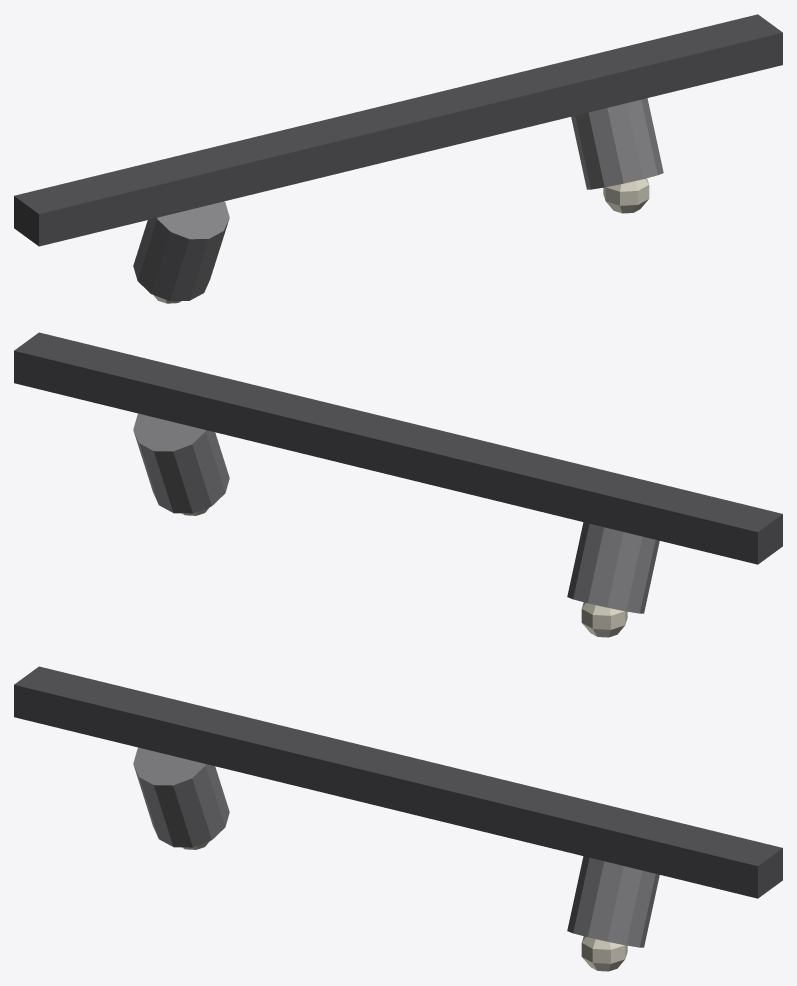
File: ilu_trilho_sala.glb
3 renders of one model, top to bottom at view 1: azimuth 30°, elevation 25°; view 2: azimuth 150°, elevation 25°; view 3: azimuth 330°, elevation 25°, orthographic.
Visible parts, largest first — view 1: ILU_Trilho_Sala_v01; view 2: ILU_Trilho_Sala_v01; view 3: ILU_Trilho_Sala_v01.
Boxes of the visible parts, x1,y1,x2,y2 form: ILU_Trilho_Sala_v01: (14, 14, 782, 303); ILU_Trilho_Sala_v01: (14, 332, 782, 637); ILU_Trilho_Sala_v01: (14, 666, 782, 971).
Bounding box in the file's own units: 1.2 × 0.22 × 0.1546.
